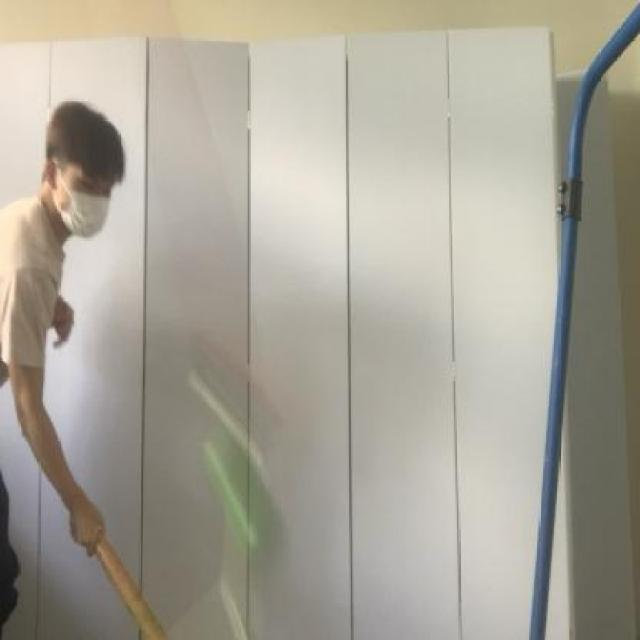baseball: (193, 407, 284, 568)
